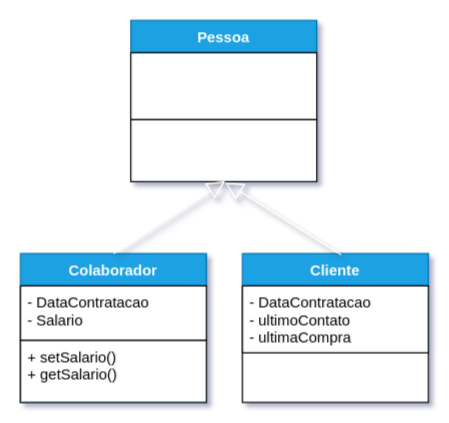
The diagram is 449 pixels wide and 423 high, and some of its shapes have lost their labels. The shapes that lost their labels are listed below. From the top down, each one's centre as x and y in pixels, then its label:
At point (223, 85): "- Nome - endereço - telefone".
At point (223, 150): "+ setEndereco() + getEndereco()".
At point (334, 377): "+ setultimaCompra() + getultimaCompra()".
